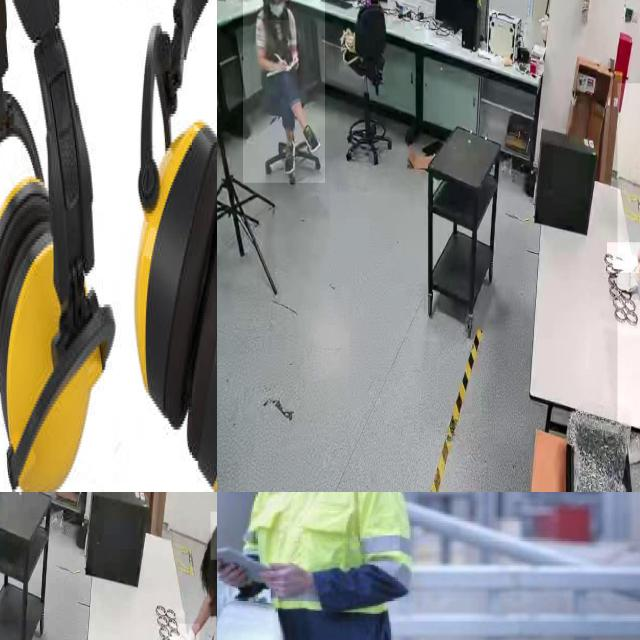Ear-protection: (0, 0, 119, 492), (127, 0, 217, 492)
face_mask: (268, 0, 289, 21)
hand_glove: (606, 242, 640, 273), (609, 272, 640, 301), (164, 623, 199, 640)
hand_noglove: (261, 564, 316, 599), (217, 562, 248, 588), (276, 58, 288, 72), (291, 51, 299, 70)
person: (242, 0, 325, 183), (617, 83, 640, 427), (176, 498, 217, 640)
shoes: (299, 120, 320, 156), (280, 138, 298, 180)
